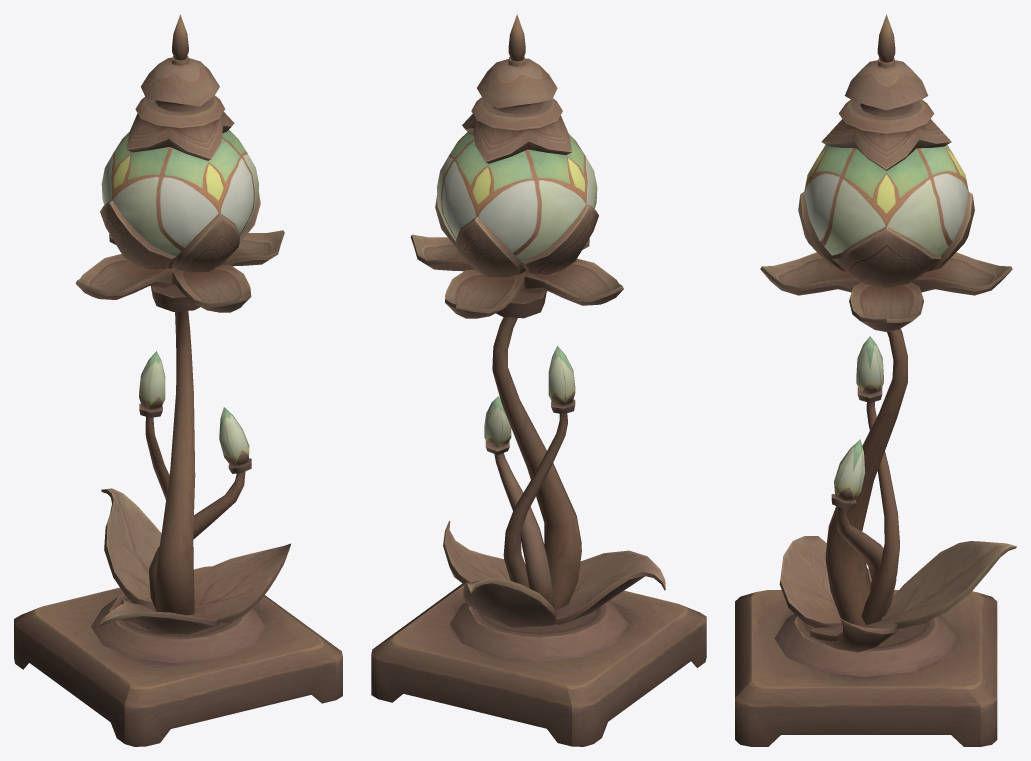
Rendered from Homeworld_Interior_Xm_Lamp_Light_Citystand_01_Lod0.fbx.
The picture shows the model from 3 angles, left to right: view 1: azimuth 30°, elevation 25°; view 2: azimuth 150°, elevation 25°; view 3: azimuth 270°, elevation 25°; orthographic projection. The views are drawn at different scales.
Visible parts, largest first — view 1: Homeworld_Interior_Xm_Lamp_Light_Citystand_01_Lod0; view 2: Homeworld_Interior_Xm_Lamp_Light_Citystand_01_Lod0; view 3: Homeworld_Interior_Xm_Lamp_Light_Citystand_01_Lod0.
Part boxes in pixels (bbox=[...]): Homeworld_Interior_Xm_Lamp_Light_Citystand_01_Lod0: bbox=[14, 14, 342, 746]; Homeworld_Interior_Xm_Lamp_Light_Citystand_01_Lod0: bbox=[371, 14, 706, 746]; Homeworld_Interior_Xm_Lamp_Light_Citystand_01_Lod0: bbox=[735, 14, 1016, 746].
Bounding box in the file's own units: 0.6464 × 1.8 × 0.6717.
1 material, 1 textured.
